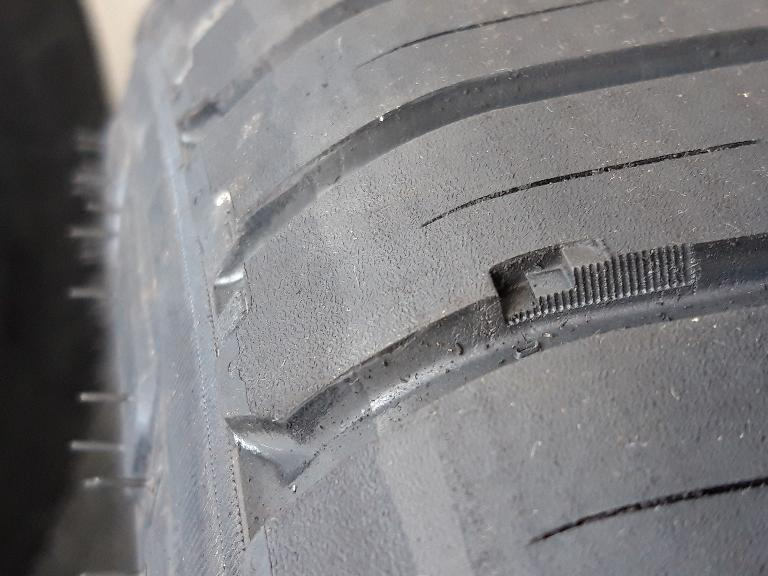temoin:50: (482, 231, 621, 333)
